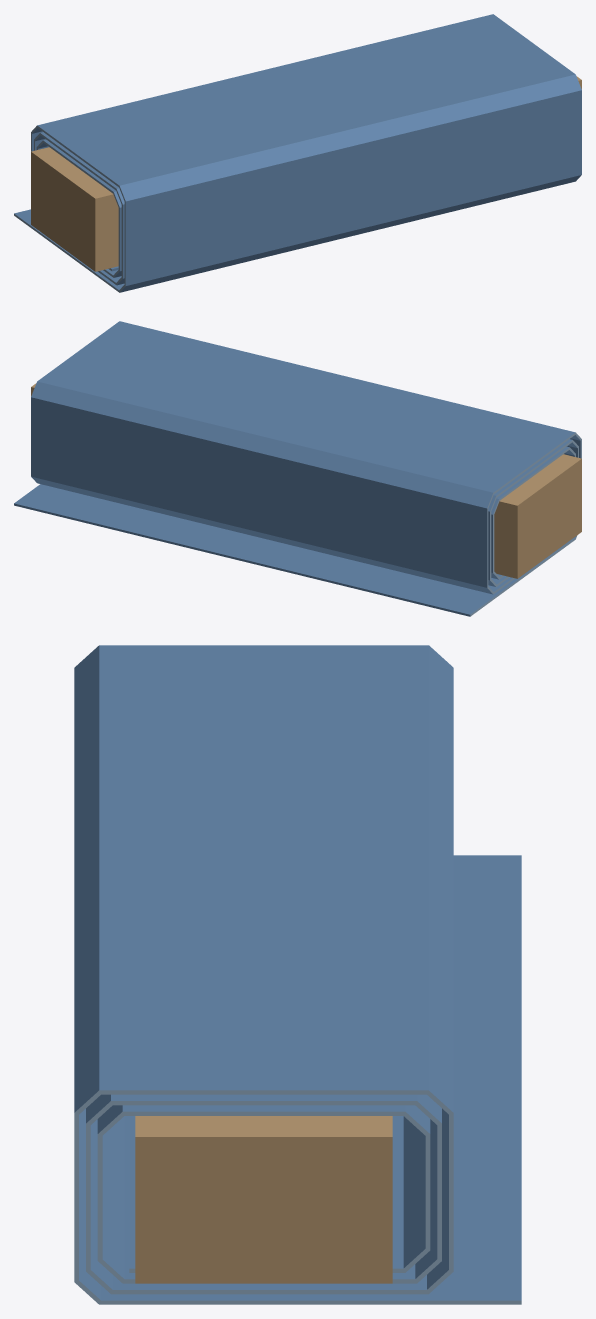
The picture shows the model from 3 angles, top to bottom: view 1: azimuth 30°, elevation 25°; view 2: azimuth 150°, elevation 25°; view 3: azimuth 270°, elevation 25°; orthographic projection. The views are drawn at different scales.
Parts seen in each view (by area): view 1: Continuous_ThreeWrapCloth, Flat_OblongCore; view 2: Continuous_ThreeWrapCloth, Flat_OblongCore; view 3: Continuous_ThreeWrapCloth, Flat_OblongCore.
Boxes of the visible parts, x1,y1,x2,y2 form: Continuous_ThreeWrapCloth: (14,14,581,292); Flat_OblongCore: (31,76,581,271); Continuous_ThreeWrapCloth: (14,321,581,616); Flat_OblongCore: (31,383,581,578); Continuous_ThreeWrapCloth: (74,645,521,1304); Flat_OblongCore: (135,1116,392,1283).
Size of the model in its own units: 0.96 by 0.202 by 0.382.
